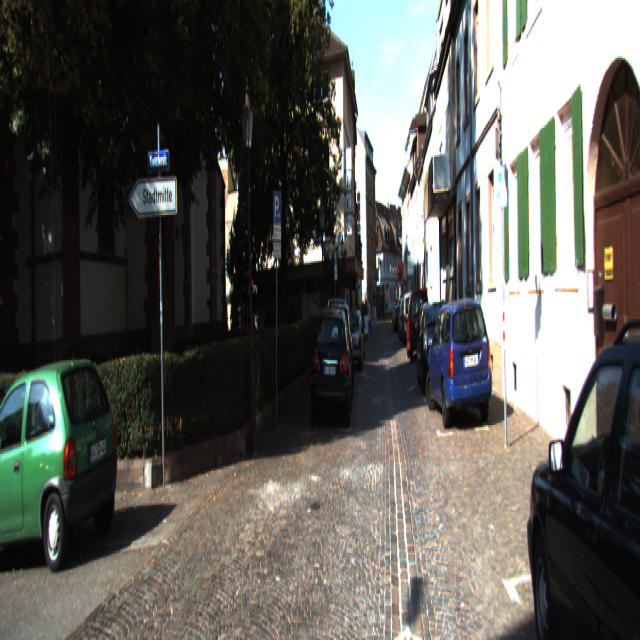Car: (522, 278, 639, 638), (0, 340, 128, 571), (426, 291, 496, 436), (310, 299, 354, 423), (415, 296, 462, 390), (406, 284, 430, 359), (342, 305, 365, 367)
